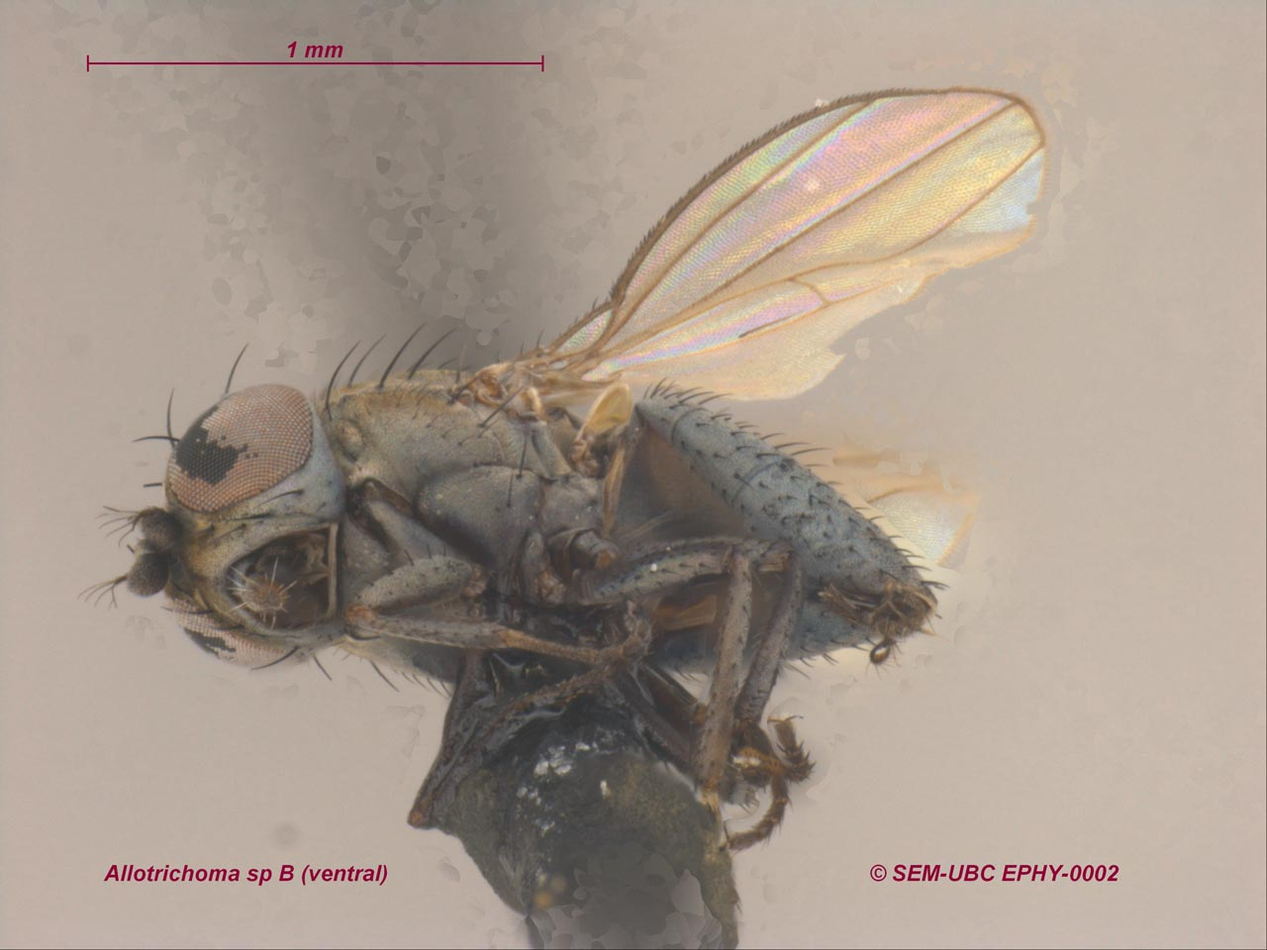Ephydridae: (76, 76, 1062, 843)
